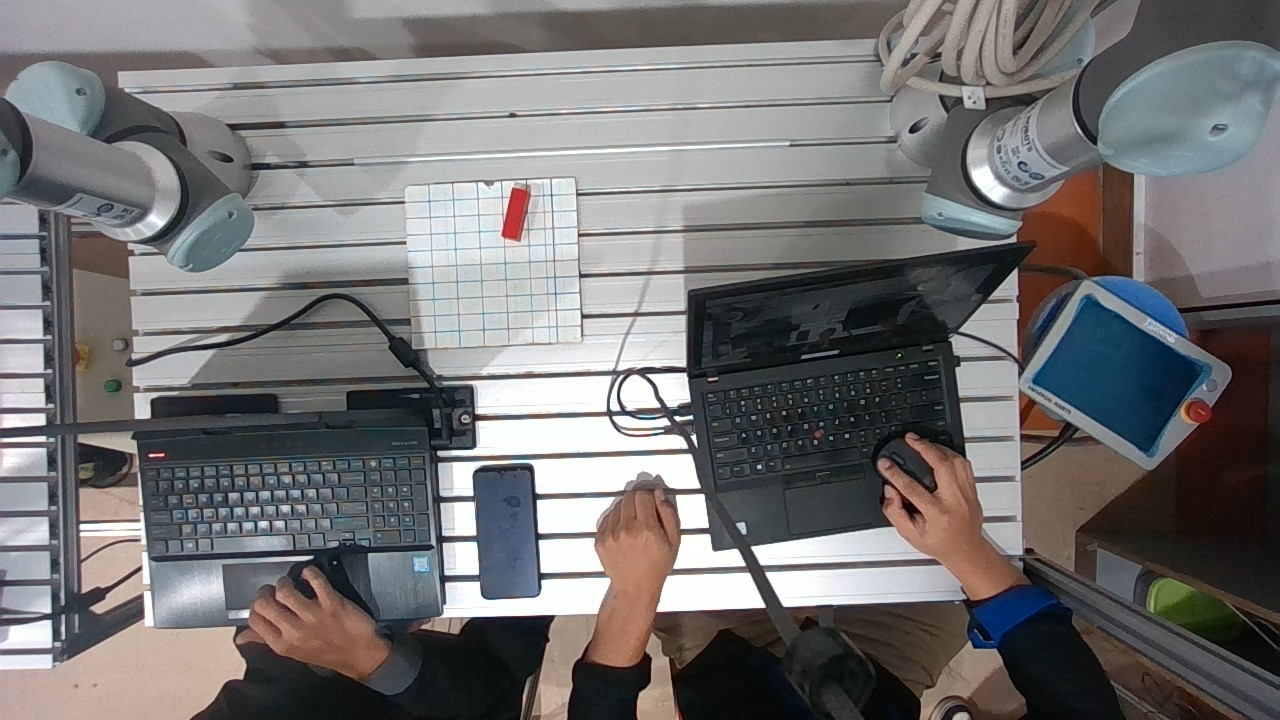box: (497, 177, 541, 250)
